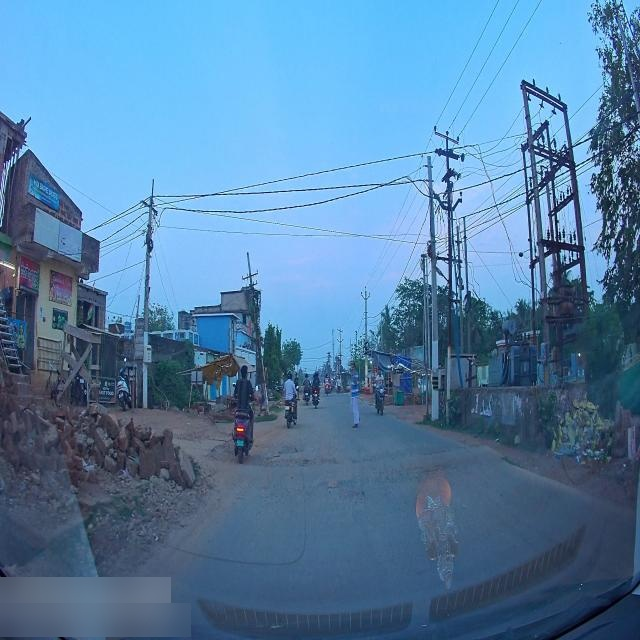pothole: (265, 459, 335, 466), (336, 487, 365, 502), (275, 444, 299, 454)
